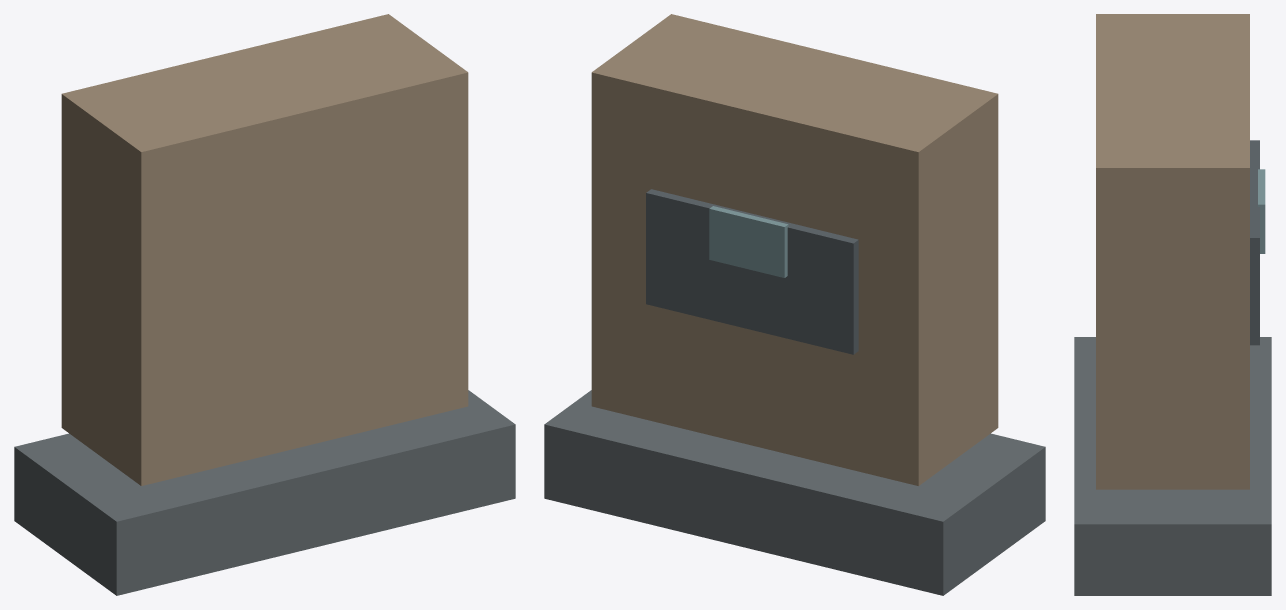
Rendered from iz3_production_chemistry_02.glb.
3 renders of one model, left to right at view 1: azimuth 30°, elevation 25°; view 2: azimuth 150°, elevation 25°; view 3: azimuth 270°, elevation 25°, orthographic. The views are drawn at different scales.
Visible parts, largest first — view 1: cabinet, base; view 2: cabinet, base, panel, display; view 3: cabinet, base, panel, display.
Boxes of the visible parts, x1,y1,x2,y2 form: cabinet: (61, 14, 468, 485); base: (14, 390, 515, 595); cabinet: (591, 14, 998, 485); base: (544, 390, 1045, 595); panel: (646, 189, 858, 354); display: (709, 206, 788, 277); cabinet: (1096, 14, 1249, 489); base: (1074, 337, 1271, 595); panel: (1250, 140, 1259, 345); display: (1258, 169, 1265, 253).
Bounding box in the file's own units: 1.8 × 1.84 × 0.8.
